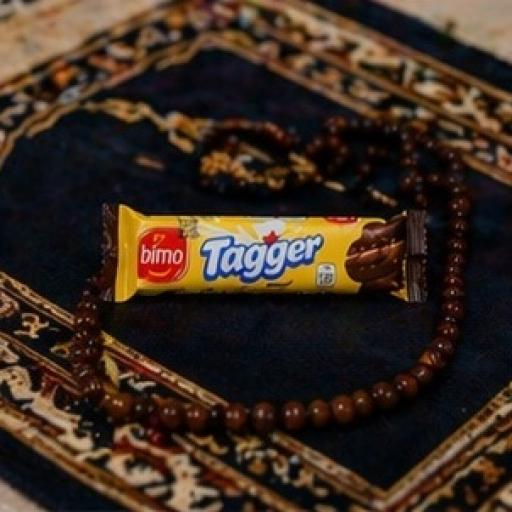tagger: (51, 157, 462, 435)
